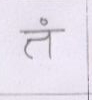anusvara: (40, 18, 48, 25)
